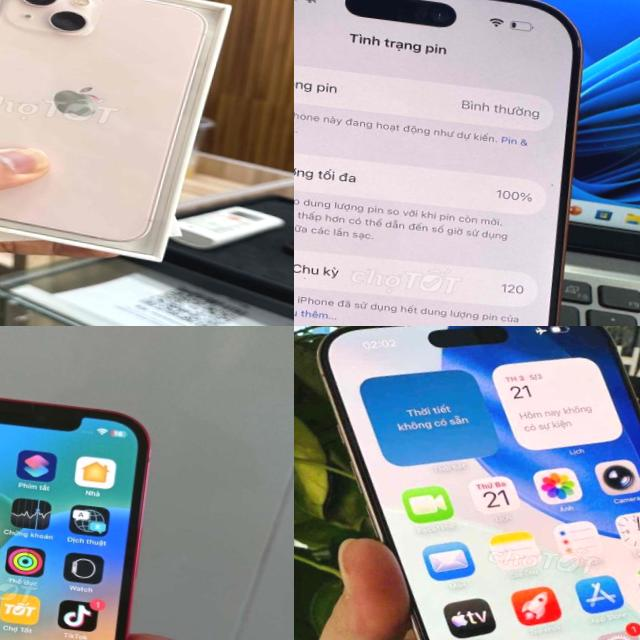gen_12_13: (0, 0, 221, 270), (0, 384, 161, 640)
gen_16: (294, 326, 640, 640)
gen_17: (294, 0, 615, 326)
